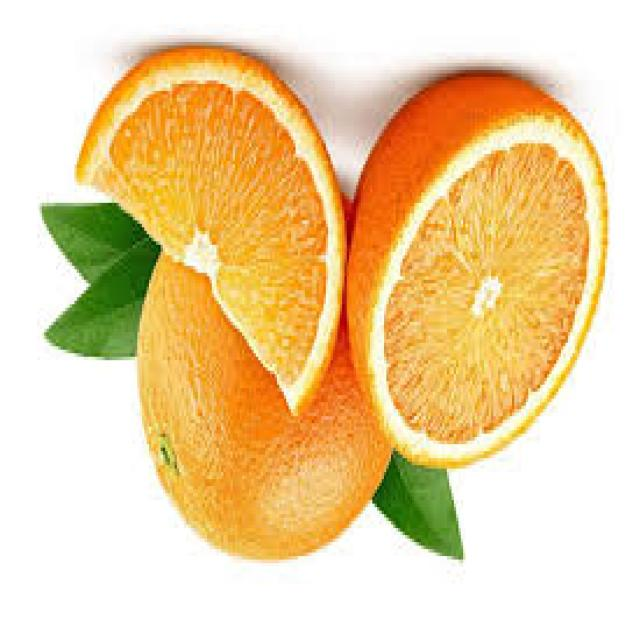orange: (131, 202, 377, 568)
